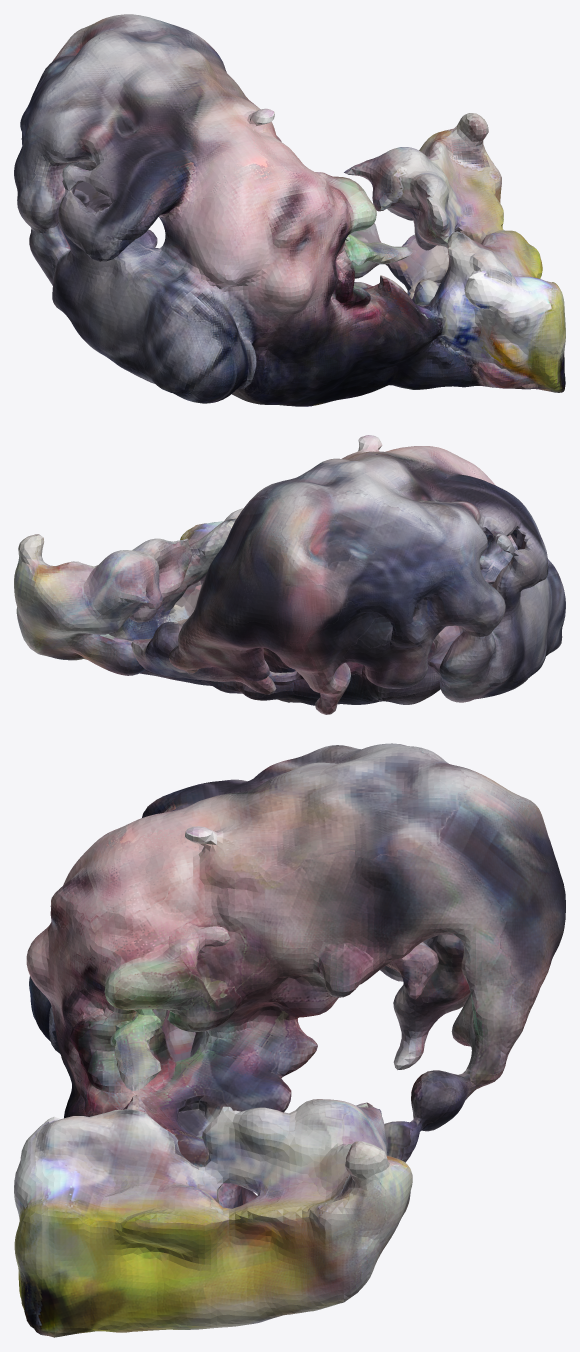
Rendered from spooky.glb.
The picture shows the model from 3 angles, top to bottom: view 1: azimuth 30°, elevation 25°; view 2: azimuth 150°, elevation 25°; view 3: azimuth 270°, elevation 25°; orthographic projection. The views are drawn at different scales.
Bounding box in the file's own units: 1.44 × 0.9251 × 1.15.
1 material, 1 textured.
